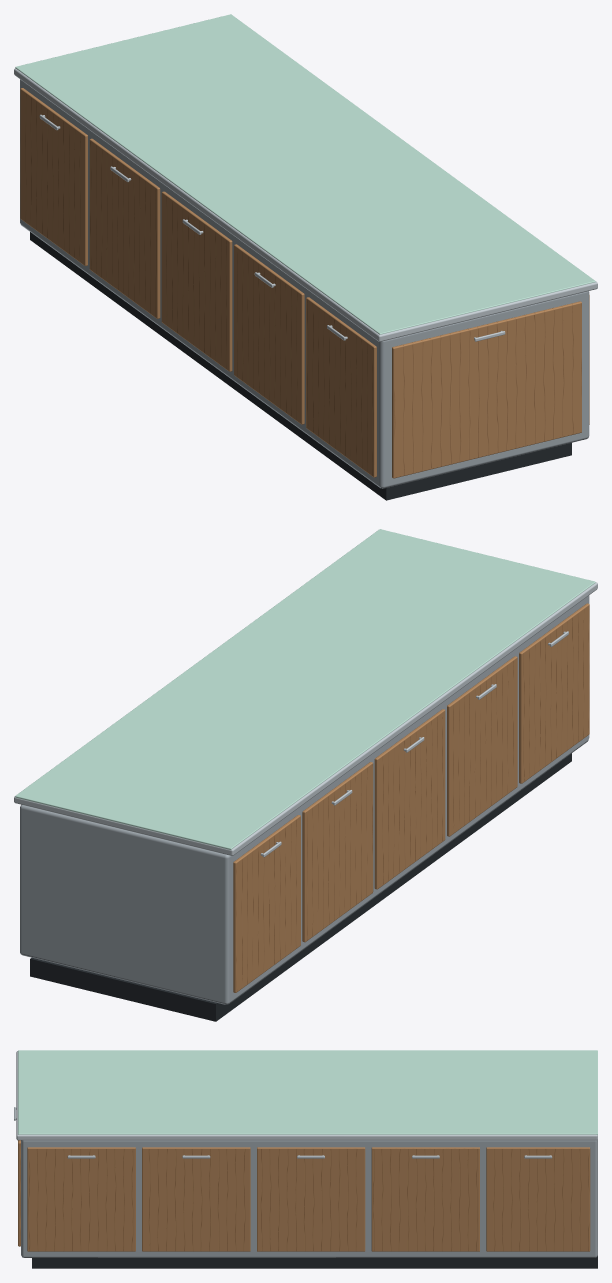
File: SM_AssemblyIsland.glb
3 renders of one model, top to bottom at view 1: azimuth 30°, elevation 25°; view 2: azimuth 150°, elevation 25°; view 3: azimuth 270°, elevation 25°, orthographic. The views are drawn at different scales.
Parts seen in each view (by area): view 1: SM_AssemblyIsland; view 2: SM_AssemblyIsland; view 3: SM_AssemblyIsland.
Boxes of the visible parts, x1,y1,x2,y2 form: SM_AssemblyIsland: (14, 14, 597, 500); SM_AssemblyIsland: (14, 529, 597, 1021); SM_AssemblyIsland: (14, 1050, 597, 1268).
Size of the model in its own units: 1.33 by 1 by 3.77.
4 materials, 4 textured.
